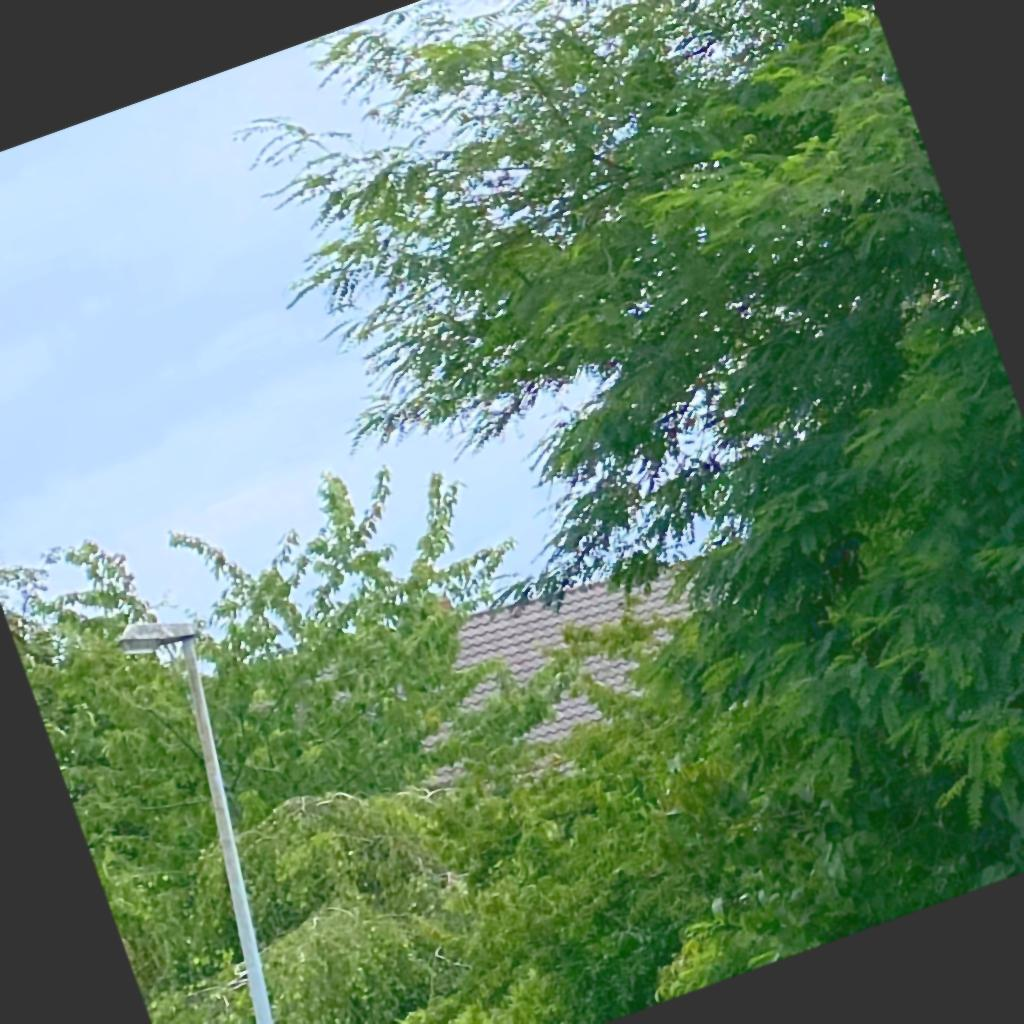tree: (230, 1, 1023, 943)
